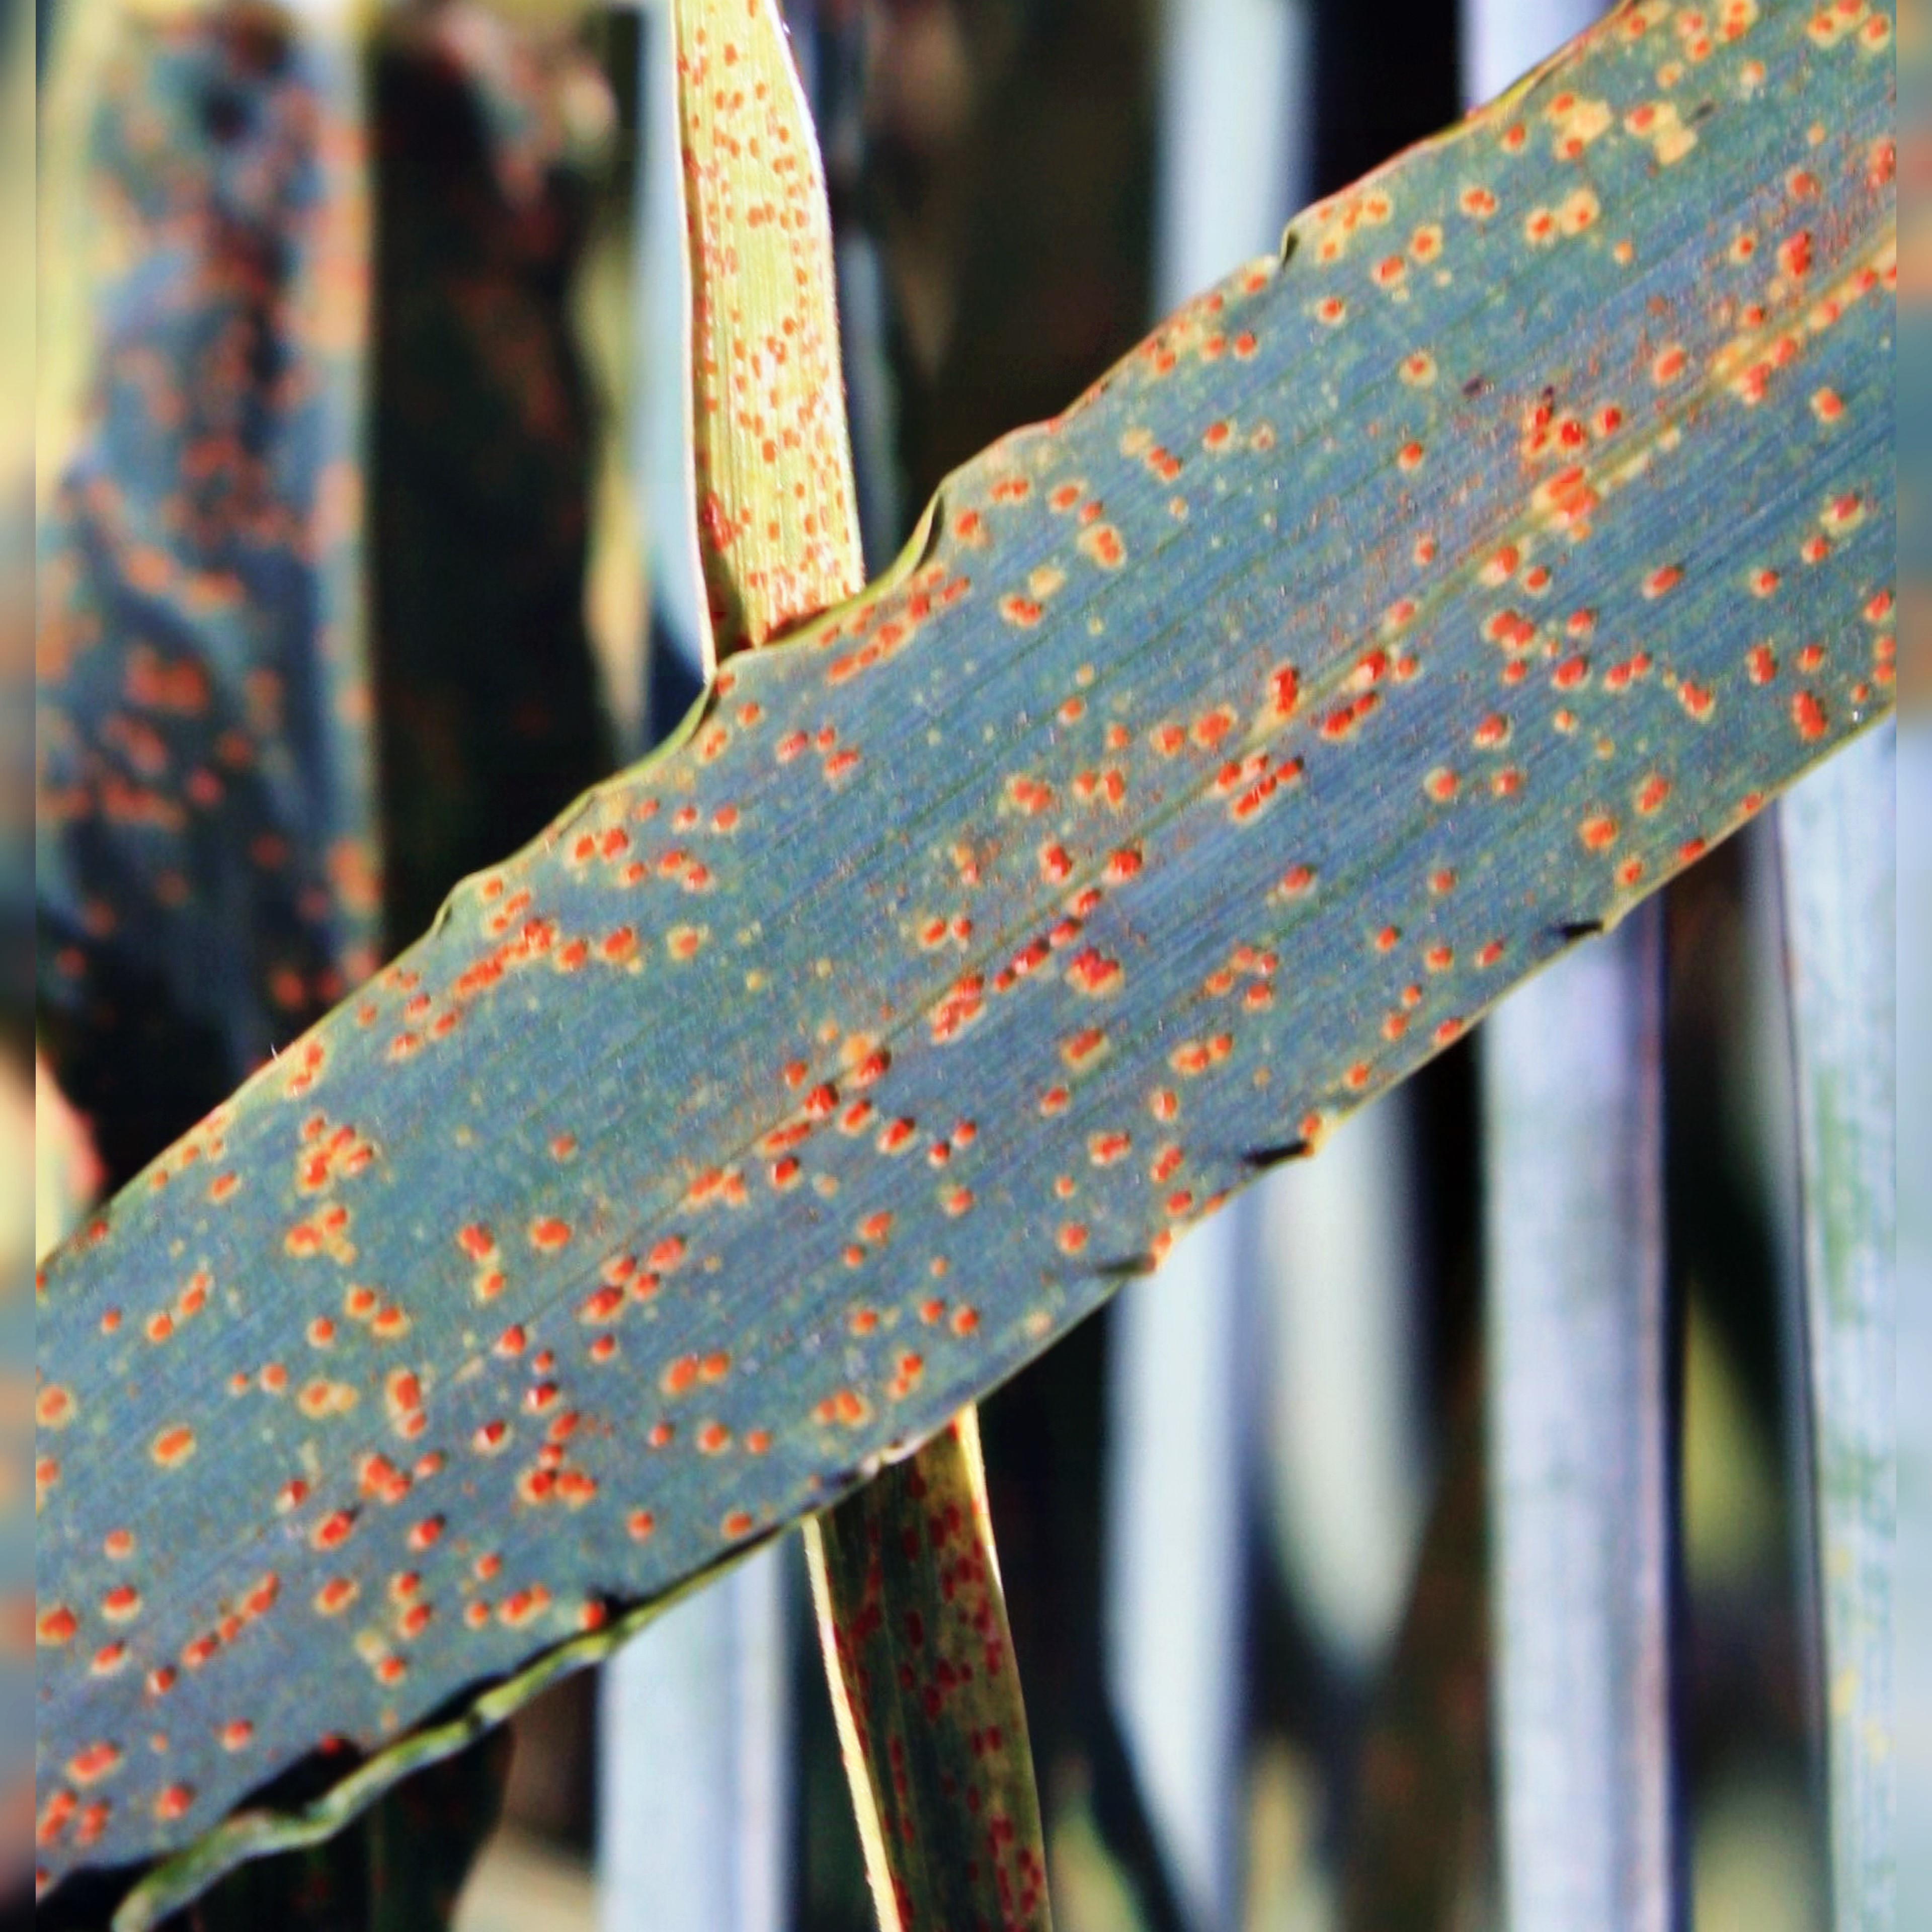Leaf Rust: (83, 71, 1879, 1805)
